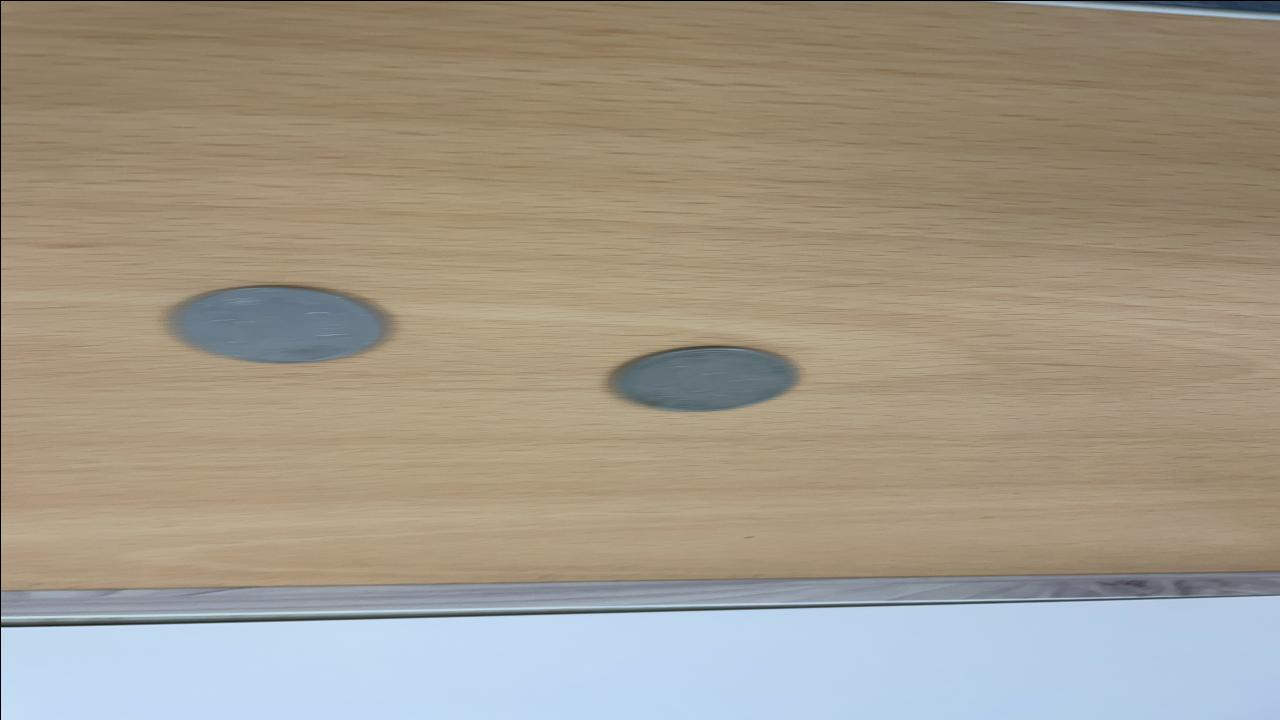coin: (166, 282, 398, 366), (604, 343, 804, 413)
